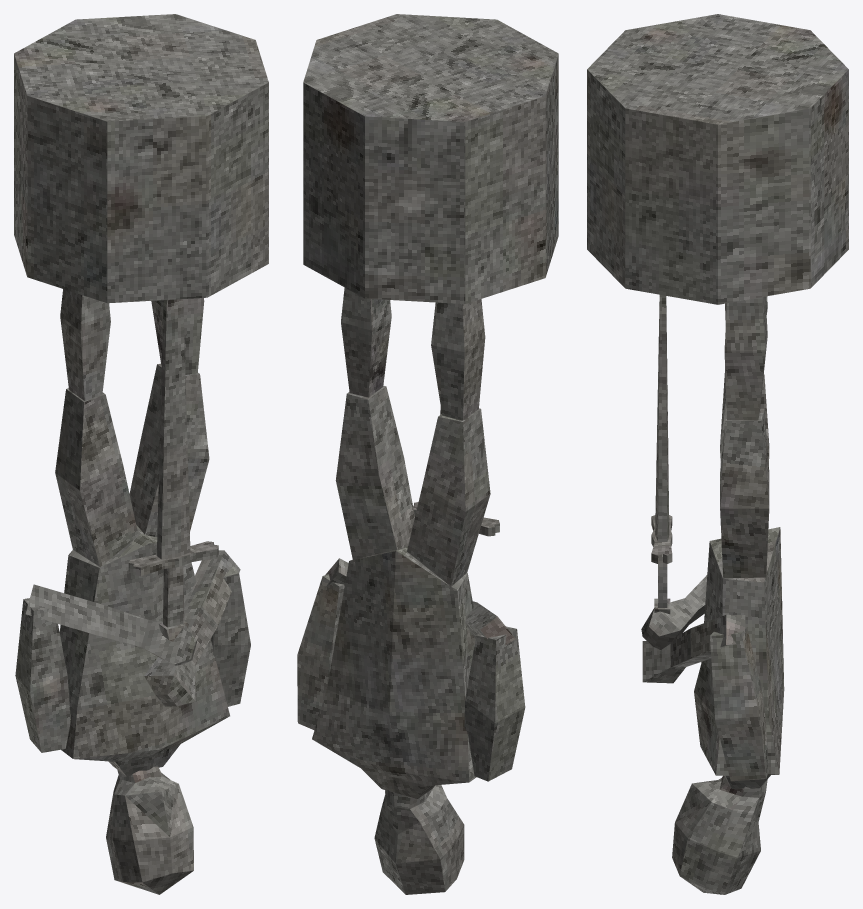
The model's file is statue.glb.
The picture shows the model from 3 angles, left to right: view 1: azimuth 30°, elevation 25°; view 2: azimuth 150°, elevation 25°; view 3: azimuth 270°, elevation 25°; orthographic projection.
Visible parts, largest first — view 1: statue; view 2: statue; view 3: statue.
Boxes of the visible parts, x1=… form: statue: x1=14, y1=14, x2=268, y2=894; statue: x1=297, y1=14, x2=558, y2=894; statue: x1=587, y1=14, x2=848, y2=894.
Size of the model in its own units: 0.8233 by 2.84 by 0.8233.
1 material, 1 textured.
